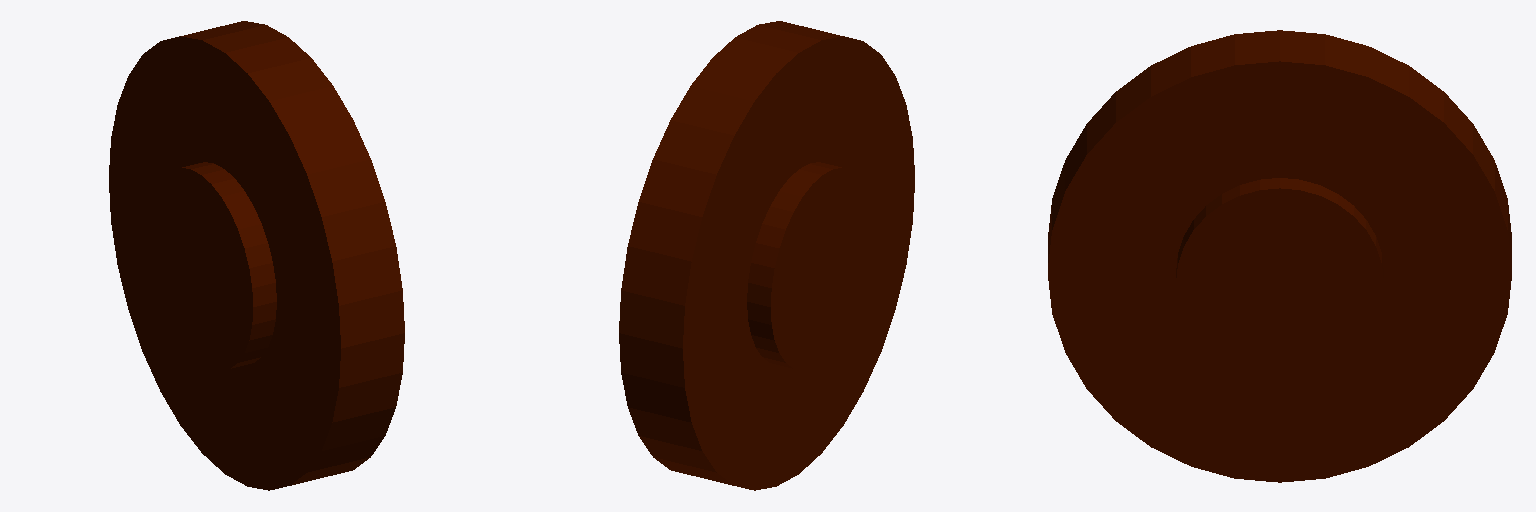
The model's file is ppsh41dj.obj.
The picture shows the model from 3 angles: view 1: azimuth 30°, elevation 25°; view 2: azimuth 150°, elevation 25°; view 3: azimuth 270°, elevation 25°; orthographic projection.
Visible parts, largest first — view 1: 1; view 2: 1; view 3: 1.
Boxes of the visible parts, x1=… form: 1: x1=109, y1=21, x2=404, y2=490; 1: x1=619, y1=21, x2=914, y2=490; 1: x1=1048, y1=30, x2=1511, y2=482.
Size of the model in its own units: 1.27 by 4.69 by 4.69.